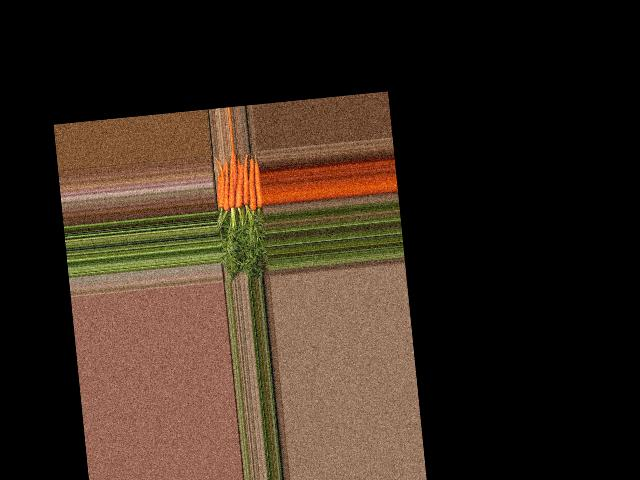carrot: (250, 157, 263, 210)
